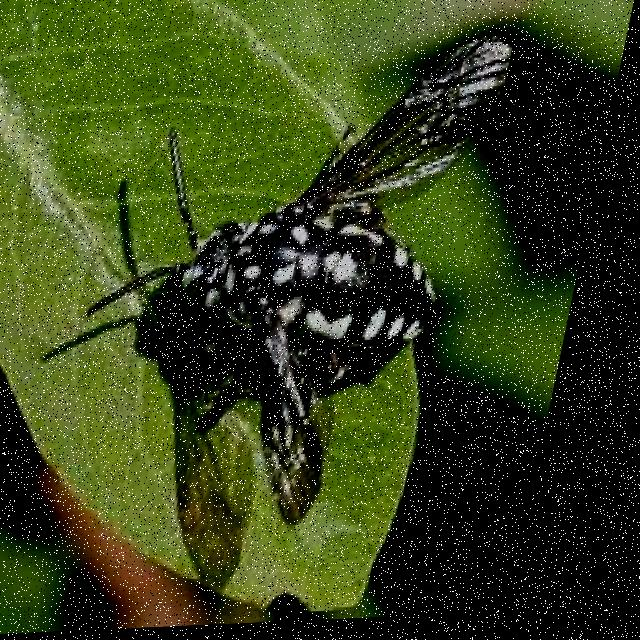Thyreus: (74, 12, 541, 519)
